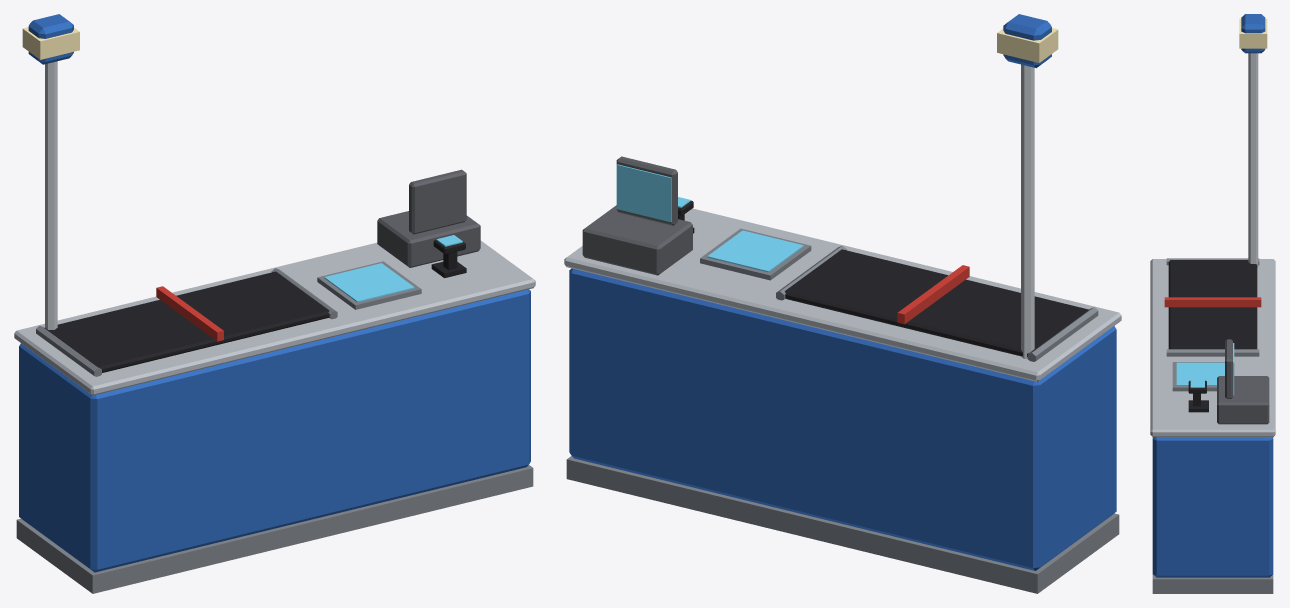
The model's file is checkout.glb.
3 views of the same model, side by side, from view 1: azimuth 30°, elevation 25°; view 2: azimuth 150°, elevation 25°; view 3: azimuth 270°, elevation 25° (orthographic). The views are drawn at different scales.
Parts seen in each view (by area): view 1: checkout; view 2: checkout; view 3: checkout.
Part boxes in pixels (bbox=[...]): checkout: bbox=[14, 14, 535, 593]; checkout: bbox=[564, 14, 1121, 593]; checkout: bbox=[1150, 14, 1275, 593].
Size of the model in its own units: 2.02 by 2.26 by 0.62.
1 material, 1 textured.
